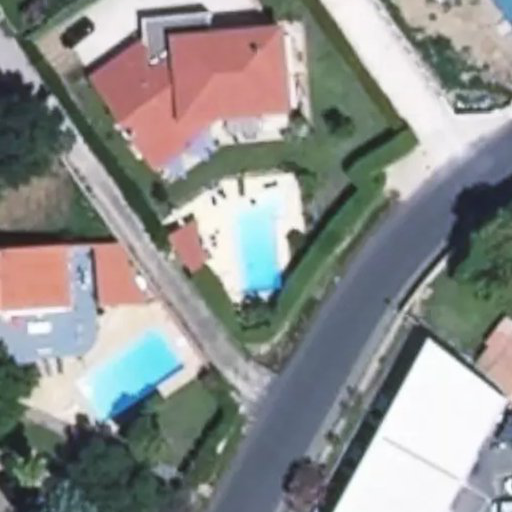pool: (81, 331, 185, 425), (236, 201, 285, 295)
